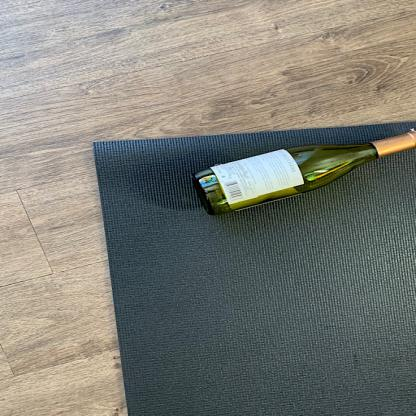trash: (185, 128, 416, 223)
